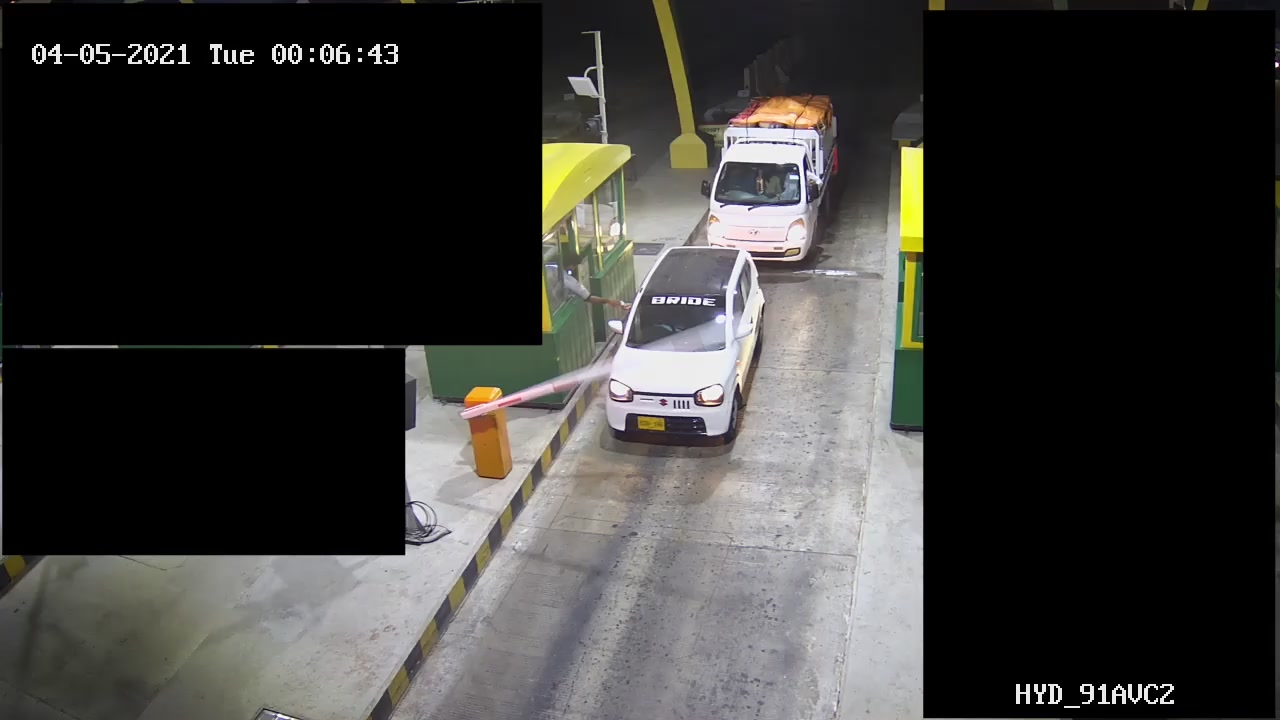F3: (698, 99, 844, 242)
